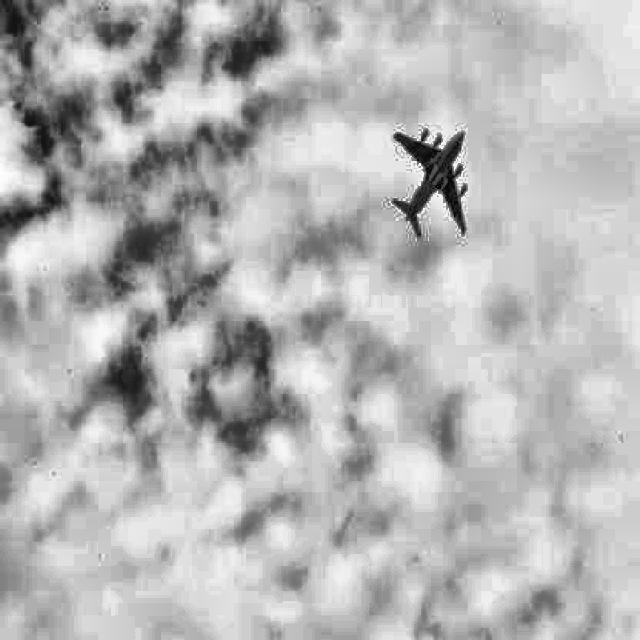C17: (392, 127, 468, 239)
